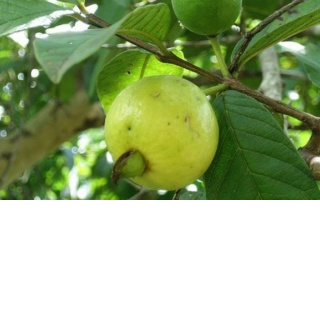oi: (95, 72, 224, 194)
